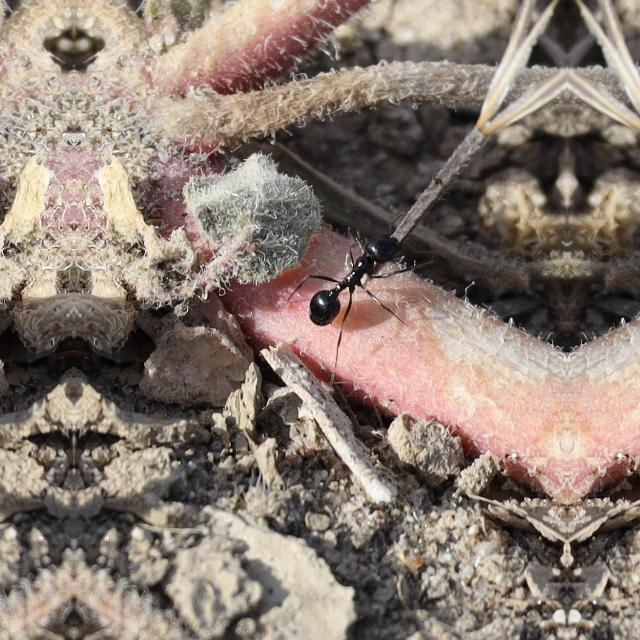Messor: (294, 222, 411, 328)
